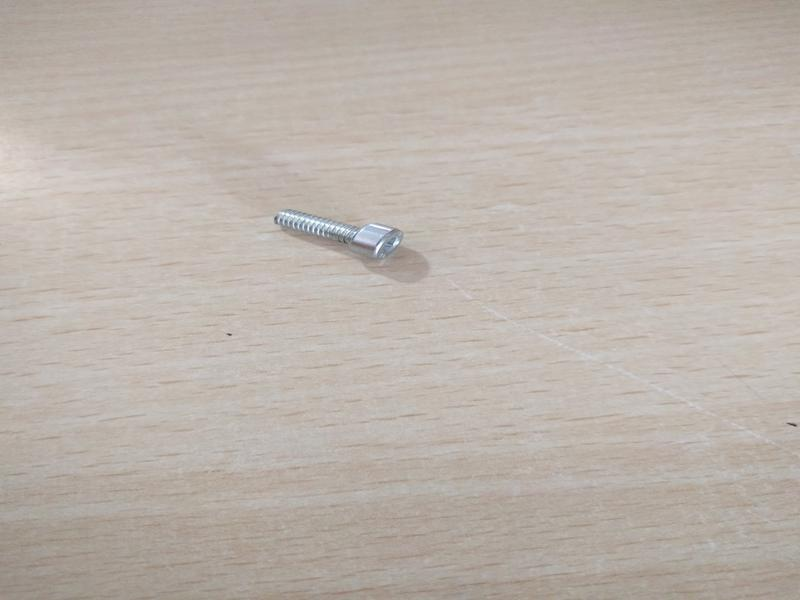smallscrew: (263, 193, 428, 287)
